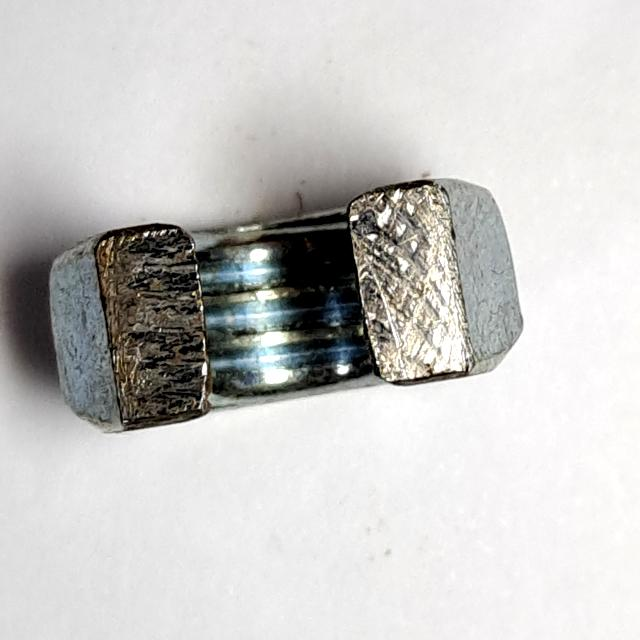Side-Fracture: (38, 169, 531, 446)
